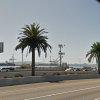Palm tree: (17, 13, 42, 82)
